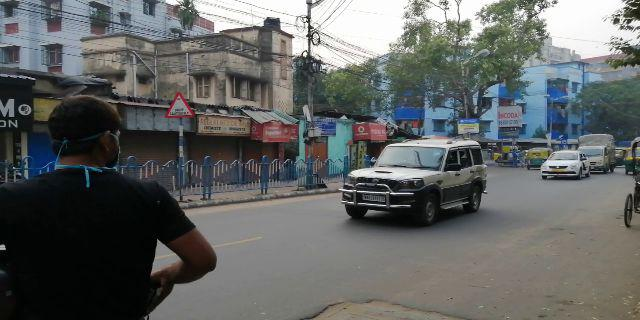Car: (341, 144, 485, 218), (538, 155, 586, 182)
